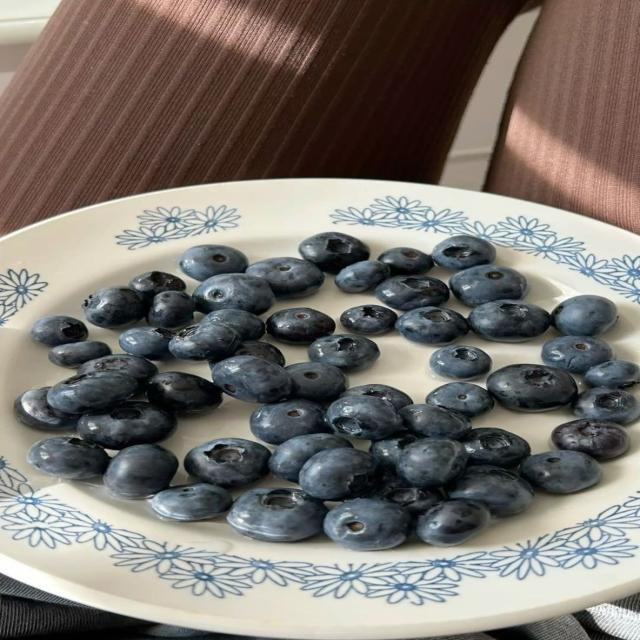blueberry: (227, 488, 327, 541), (78, 401, 176, 449), (324, 498, 411, 550), (447, 465, 533, 515), (299, 448, 381, 500), (487, 364, 577, 411), (185, 438, 270, 487), (104, 444, 178, 499), (269, 434, 353, 482), (47, 372, 138, 413), (212, 356, 291, 403), (250, 399, 330, 444), (416, 499, 491, 546), (397, 438, 468, 487), (468, 300, 550, 342), (27, 437, 109, 479), (520, 451, 601, 493), (450, 265, 527, 307), (326, 396, 401, 439), (194, 274, 274, 314), (246, 257, 324, 298), (146, 372, 221, 414), (152, 483, 233, 521), (552, 420, 629, 459), (299, 232, 369, 274), (14, 387, 78, 431), (78, 354, 158, 389), (396, 307, 468, 345), (169, 323, 240, 361), (371, 477, 442, 515), (83, 286, 147, 328), (541, 336, 613, 373), (462, 428, 530, 467), (308, 334, 379, 371), (552, 295, 617, 335), (399, 404, 471, 439), (375, 276, 449, 310), (286, 362, 348, 402), (267, 308, 335, 344), (179, 245, 247, 281), (573, 387, 639, 424), (426, 383, 493, 417), (430, 345, 492, 380), (433, 235, 495, 269), (369, 432, 418, 473), (201, 309, 265, 340), (343, 384, 413, 410), (147, 291, 195, 328), (335, 260, 390, 292), (30, 316, 88, 346), (120, 328, 174, 360), (49, 341, 111, 368), (340, 305, 397, 334), (129, 272, 186, 300), (584, 360, 639, 389), (378, 248, 433, 275), (234, 340, 285, 366)
